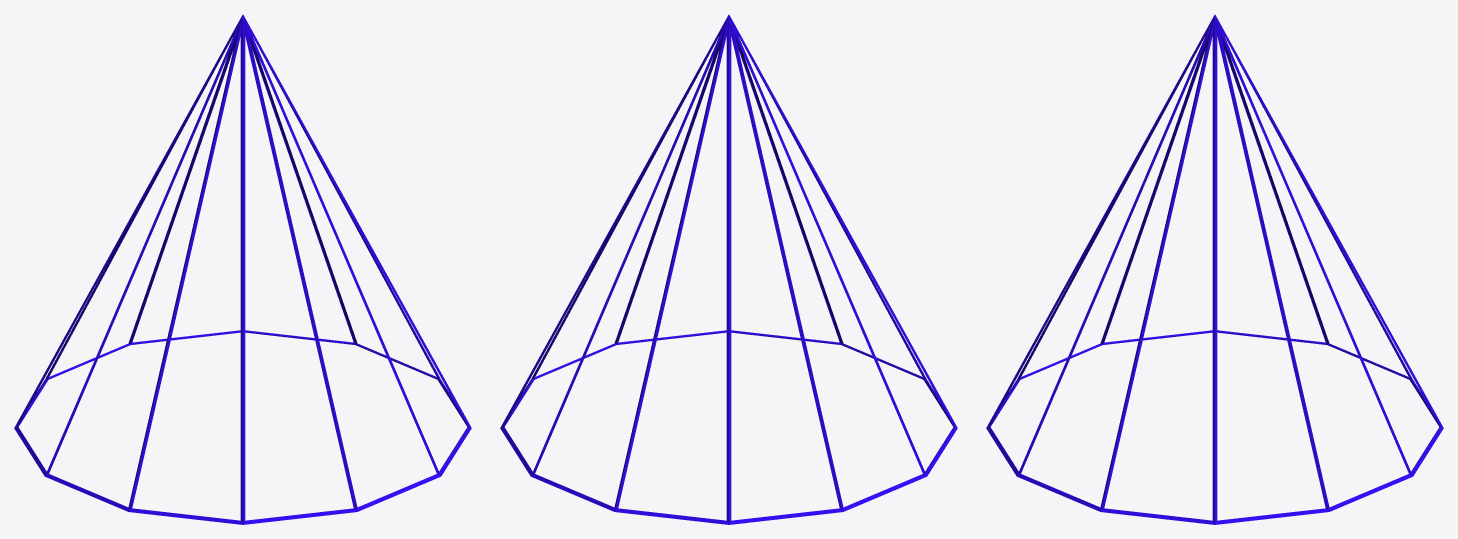
The model's file is cone-wireframe.glb.
The picture shows the model from 3 angles, left to right: view 1: azimuth 30°, elevation 25°; view 2: azimuth 150°, elevation 25°; view 3: azimuth 270°, elevation 25°; orthographic projection.
Parts seen in each view (by area): view 1: Cone.002; view 2: Cone.002; view 3: Cone.002.
Boxes of the visible parts, x1=… form: Cone.002: x1=14, y1=14, x2=471, y2=524; Cone.002: x1=500, y1=14, x2=957, y2=524; Cone.002: x1=986, y1=14, x2=1443, y2=524.
Size of the model in its own units: 2.02 by 2.01 by 2.02.
